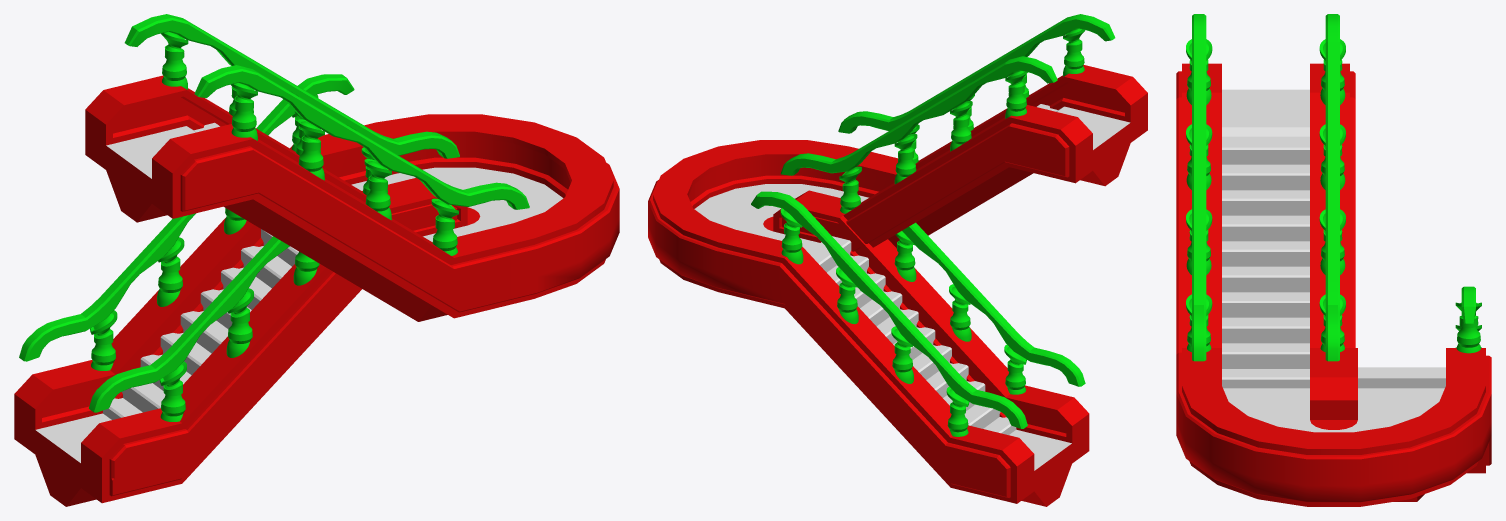
The model's file is CURVED_Stairs.fbx.
The picture shows the model from 3 angles, left to right: view 1: azimuth 30°, elevation 25°; view 2: azimuth 150°, elevation 25°; view 3: azimuth 270°, elevation 25°; orthographic projection. The views are drawn at different scales.
Parts seen in each view (by area): view 1: Stairs.007; view 2: Stairs.007; view 3: Stairs.007.
Part boxes in pixels (bbox=[...]): Stairs.007: bbox=[14, 14, 619, 506]; Stairs.007: bbox=[648, 14, 1147, 506]; Stairs.007: bbox=[1176, 14, 1491, 506].
Size of the model in its own units: 12.53 by 11.74 by 7.08.
